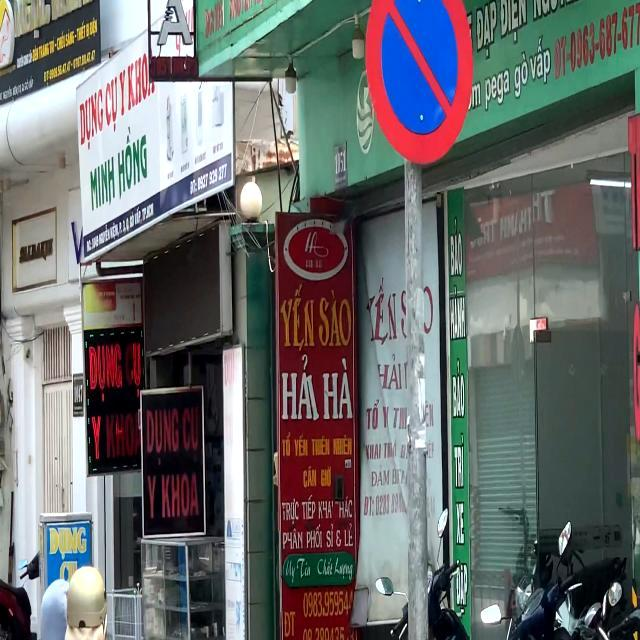Cam do xe: (361, 0, 473, 162)
